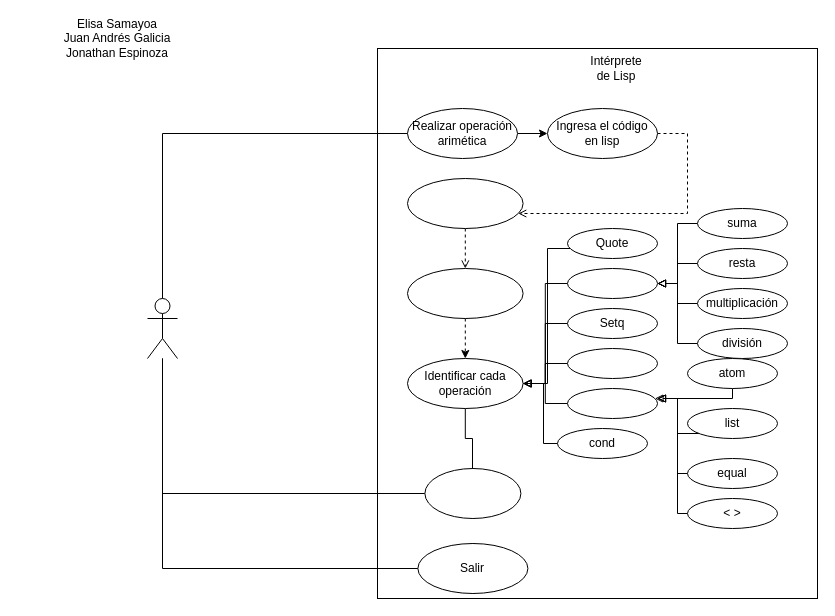
This 835x616 diagram has some shape labels left out. The shapes that lost their labels are listed below. From the top down, each one's box as (x1, y1, x2, y2) in pixels, then its label:
(406, 178, 523, 228): Balanceo de paréntesis
(406, 268, 523, 318): Separa el código en Strings
(566, 268, 658, 298): Operaciones ariméticas
(146, 298, 178, 358): Actor
(566, 348, 658, 378): Defun
(566, 388, 658, 418): Predicados
(424, 468, 521, 518): Visualizar resultado
